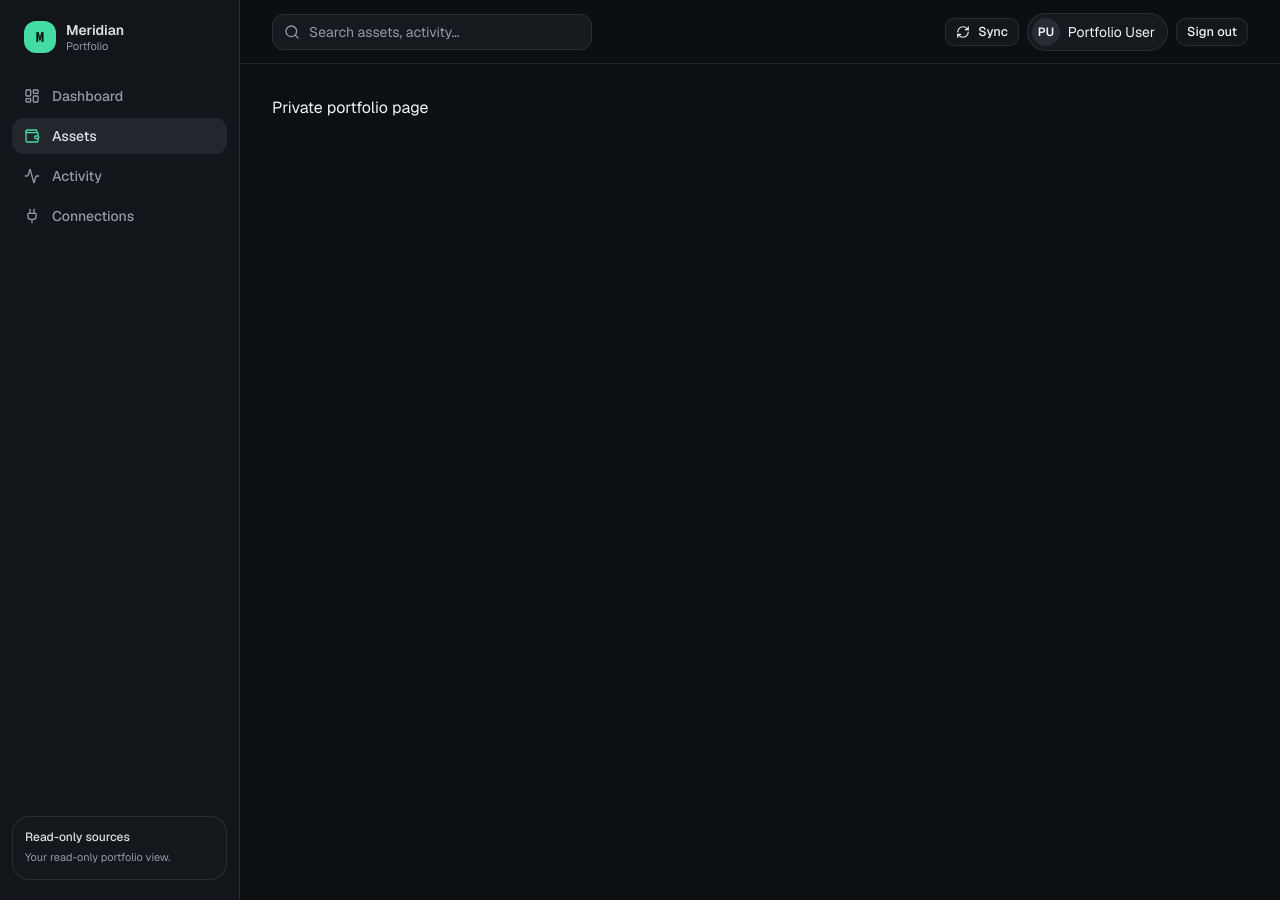
Test case: AuthBoundary › keeps the authenticated shell visible and reports a failed logout safely
Expected: the text "Portfolio User" is shown, [1068, 22, 1155, 42]
Click the button "Sign out" at [1212, 32], box [1176, 18, 1248, 46]
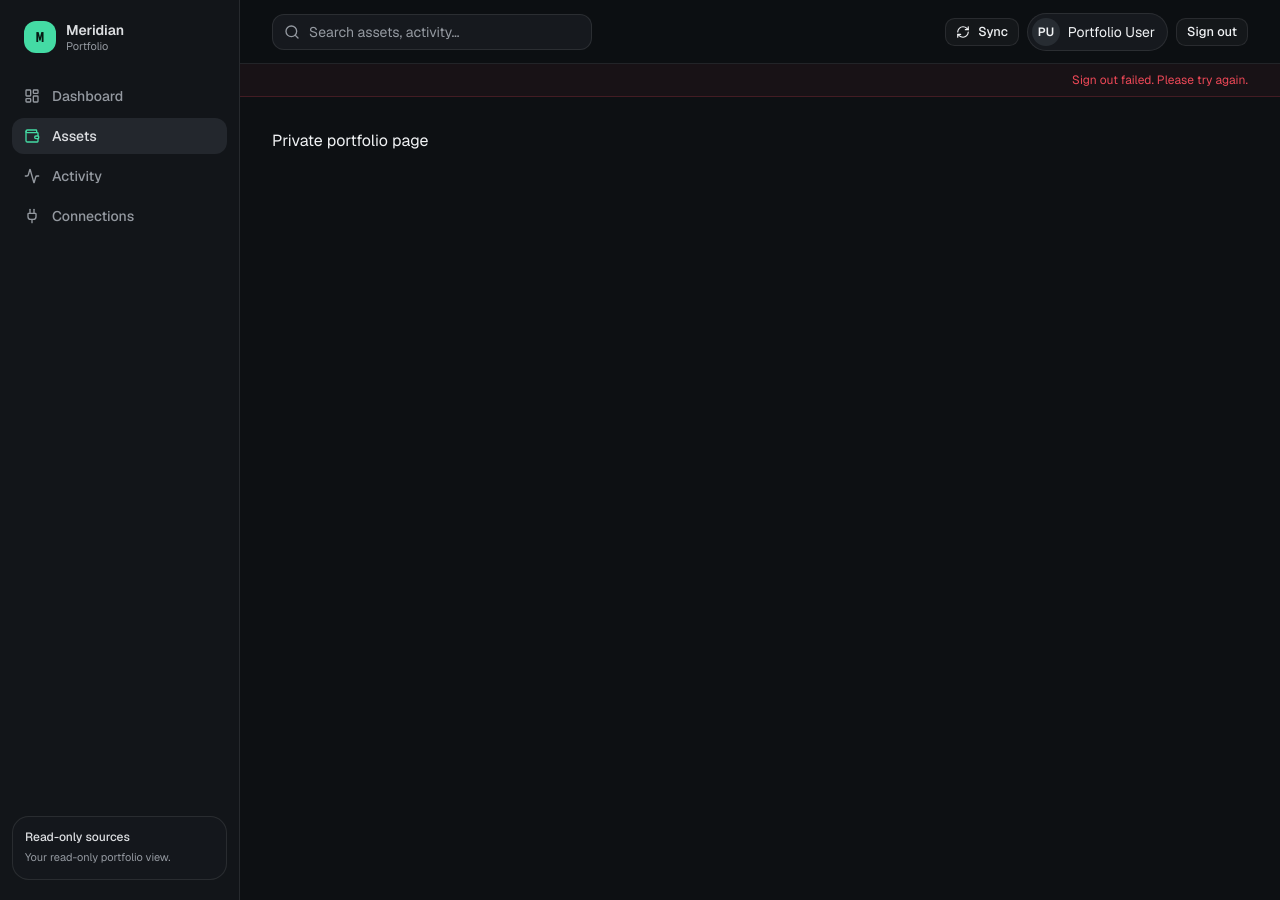
Expected: the text "Private portfolio page" is shown, [272, 130, 428, 151]
Now the text "Sign out failed. Please try again." is shown, box [240, 64, 1279, 97]
